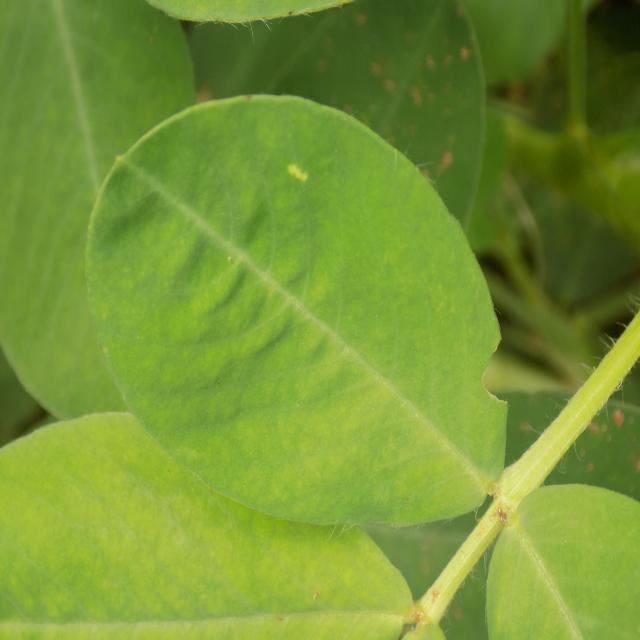Ground nut_healthy: (87, 98, 512, 532)
